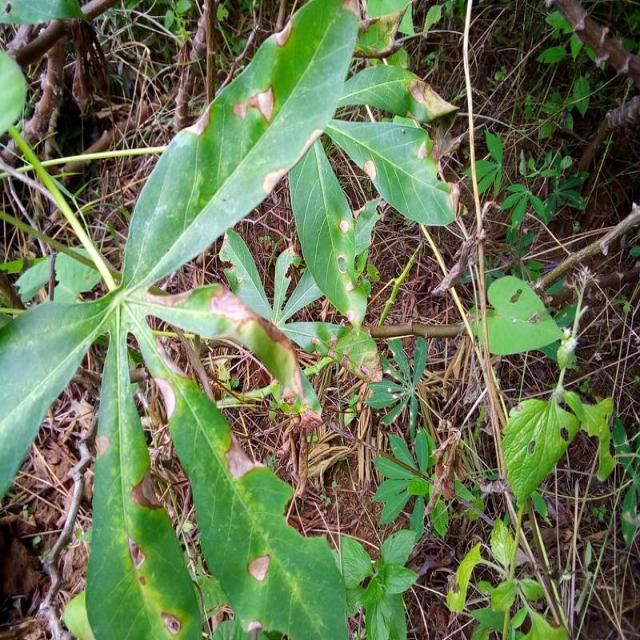cassava leaf: (1, 0, 457, 638), (119, 0, 360, 294), (469, 273, 563, 356)
